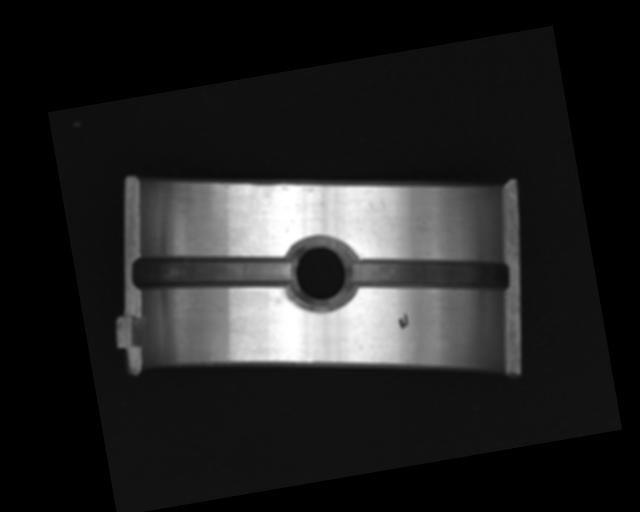blot: (397, 311, 410, 330)
gap: (129, 231, 297, 311), (349, 232, 509, 313)
hole: (285, 232, 360, 311)
